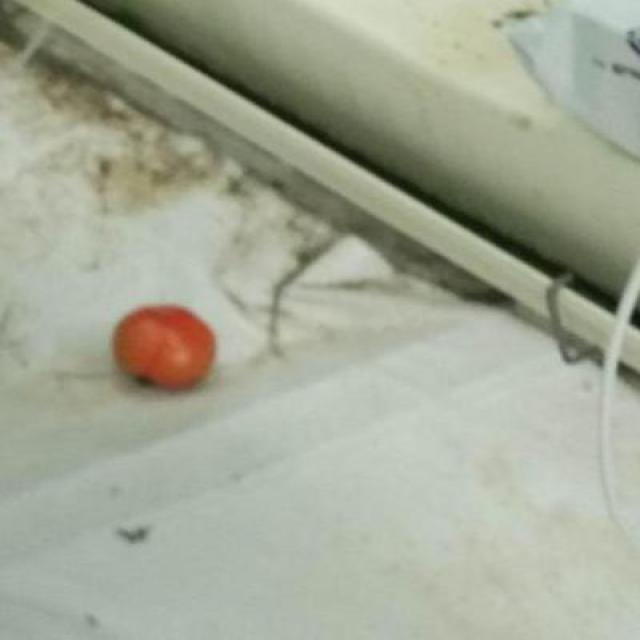tomato: (114, 307, 217, 390)
